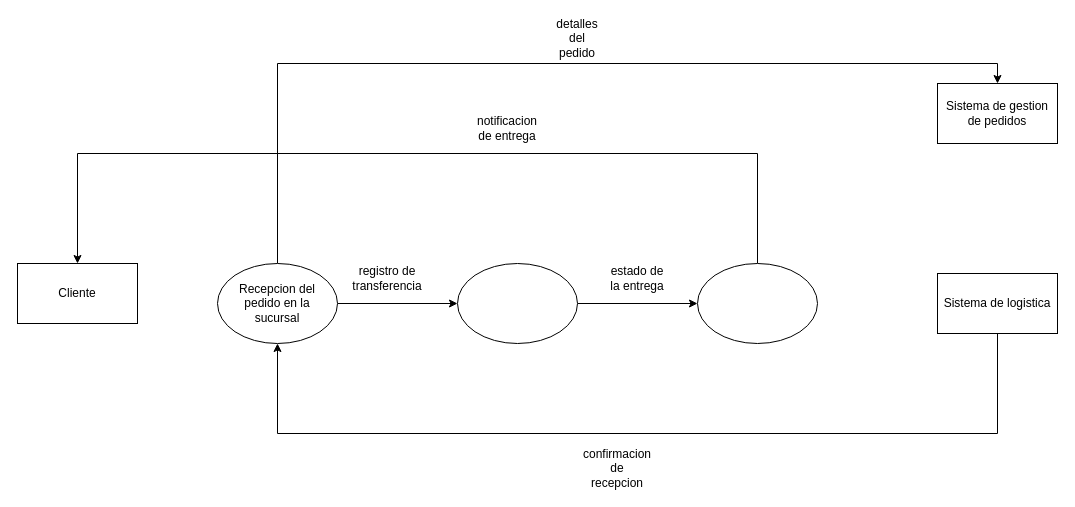
This 1075x507 diagram has some shape labels left out. Each missing label, with the box of its shape:
Confirmacion de entrega: (696, 262, 818, 344)
Transferencia entre sucursales: (456, 262, 578, 344)
